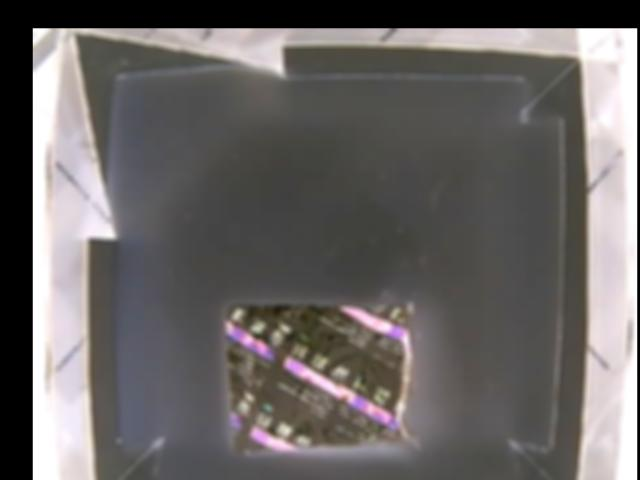Medicine: (226, 294, 420, 457)
